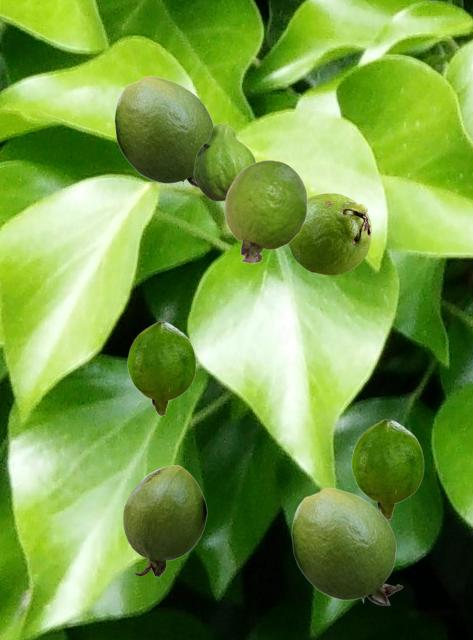guava: (291, 487, 402, 604), (114, 75, 213, 187), (123, 465, 206, 576), (224, 159, 307, 263), (351, 419, 423, 519), (288, 193, 370, 274), (127, 321, 195, 415), (193, 123, 256, 202)
